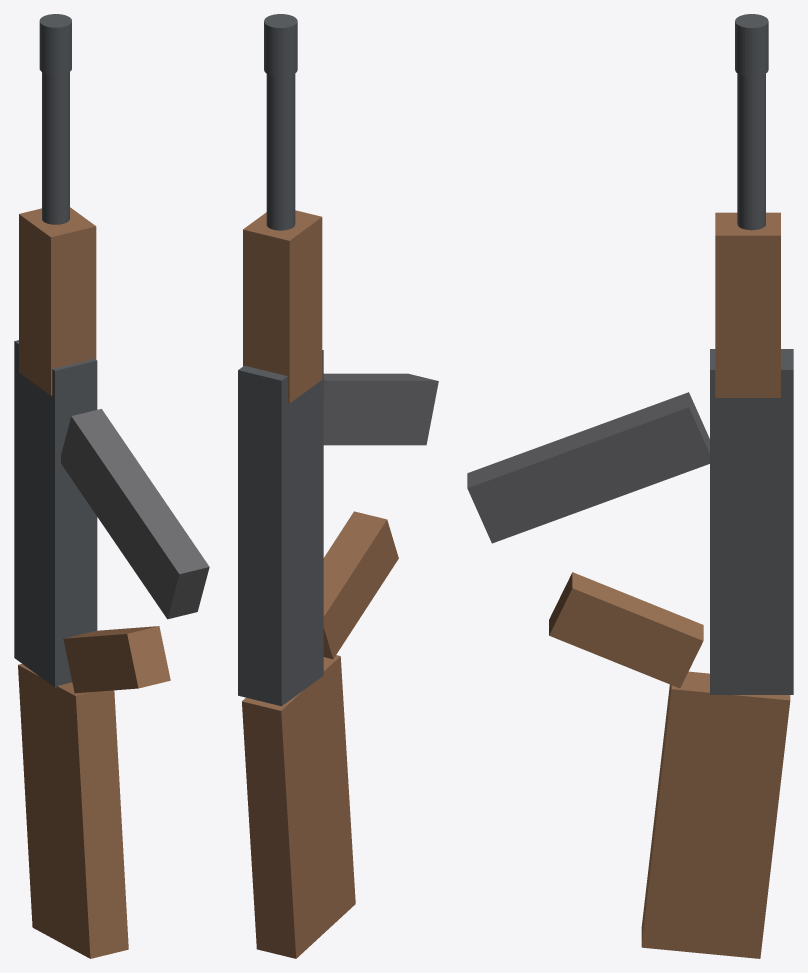
The model's file is AK47_Rifle.fbx.
The picture shows the model from 3 angles, left to right: view 1: azimuth 30°, elevation 25°; view 2: azimuth 150°, elevation 25°; view 3: azimuth 270°, elevation 25°; orthographic projection. The views are drawn at different scales.
Parts seen in each view (by area): view 1: Stock_Wood, Receiver, Magazine_Curved, Handguard_Wood, Pistol_Grip_Wood, Barrel, Muzzle_Brake; view 2: Receiver, Stock_Wood, Handguard_Wood, Magazine_Curved, Pistol_Grip_Wood, Barrel, Muzzle_Brake; view 3: Stock_Wood, Receiver, Magazine_Curved, Handguard_Wood, Pistol_Grip_Wood, Barrel, Muzzle_Brake.
Part boxes in pixels (x1,y1,x2,y2): Stock_Wood: [18, 664, 128, 958]; Receiver: [14, 340, 97, 687]; Magazine_Curved: [61, 409, 209, 619]; Handguard_Wood: [19, 207, 96, 395]; Pistol_Grip_Wood: [63, 626, 170, 693]; Barrel: [42, 72, 69, 224]; Muzzle_Brake: [39, 14, 71, 75]; Receiver: [238, 350, 323, 706]; Stock_Wood: [242, 655, 355, 958]; Handguard_Wood: [243, 210, 322, 403]; Magazine_Curved: [323, 373, 438, 445]; Pistol_Grip_Wood: [323, 511, 398, 658]; Barrel: [266, 74, 295, 230]; Muzzle_Brake: [264, 14, 297, 76]; Stock_Wood: [641, 671, 790, 958]; Receiver: [710, 349, 793, 694]; Magazine_Curved: [467, 392, 709, 543]; Handguard_Wood: [715, 212, 780, 397]; Pistol_Grip_Wood: [549, 572, 703, 688]; Barrel: [737, 73, 765, 230]; Muzzle_Brake: [735, 14, 768, 76].
Bounding box in the file's own units: 0.045 × 0.8571 × 0.273.
